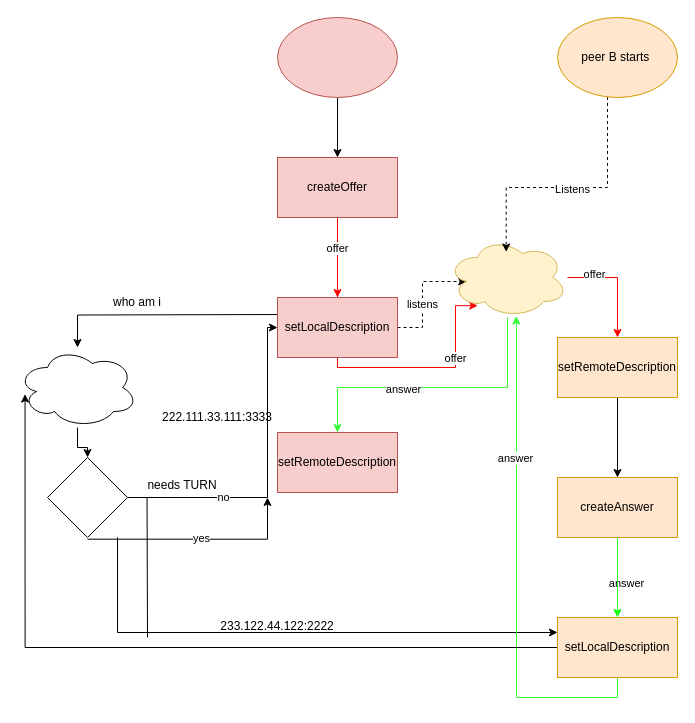
The diagram is 695 pixels wide and 723 high, and some of its shapes have lost their labels. The box of each missing label's shape, as (x1, y1, x2, y2) in pixels:
peer A starts: (276, 16, 398, 98)
signaling channel: (446, 236, 568, 318)
STUN: (16, 346, 138, 428)
symmetric nat?: (46, 456, 128, 538)
